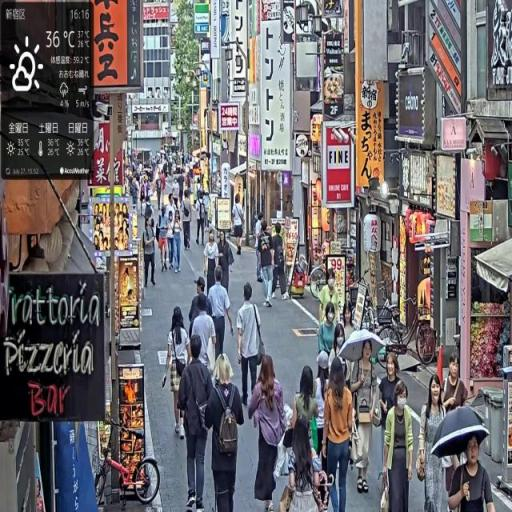person: (178, 334, 216, 510), (204, 354, 245, 512), (248, 354, 288, 510), (323, 357, 357, 512), (350, 340, 382, 497), (382, 382, 417, 512), (417, 374, 448, 512), (446, 435, 497, 512), (162, 307, 191, 439), (237, 281, 266, 411), (207, 271, 234, 364), (190, 296, 219, 380), (257, 219, 276, 309), (443, 354, 471, 415), (189, 277, 211, 332), (144, 213, 160, 288), (205, 230, 220, 299), (232, 196, 246, 259), (182, 192, 194, 252)
